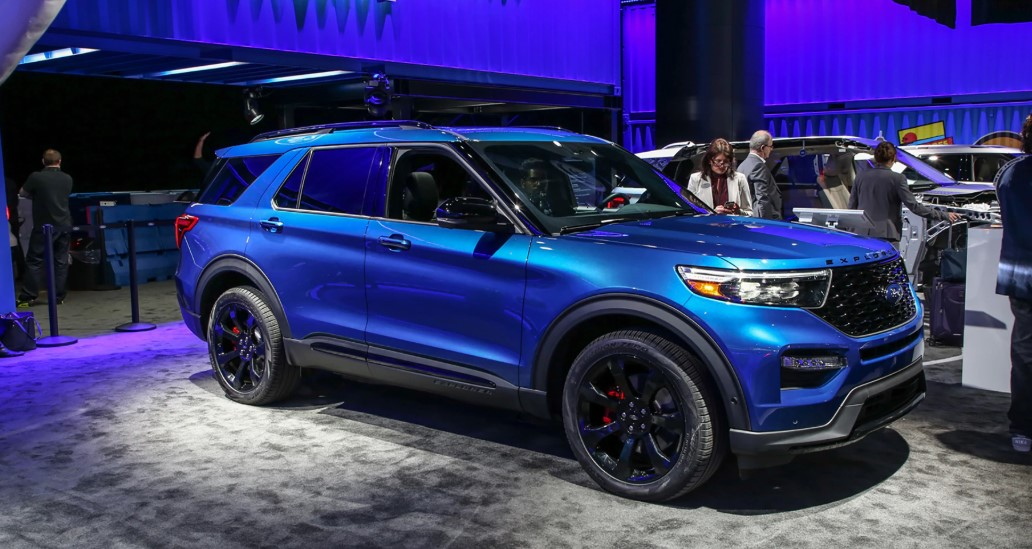Ford Explorer: (170, 112, 930, 505)
